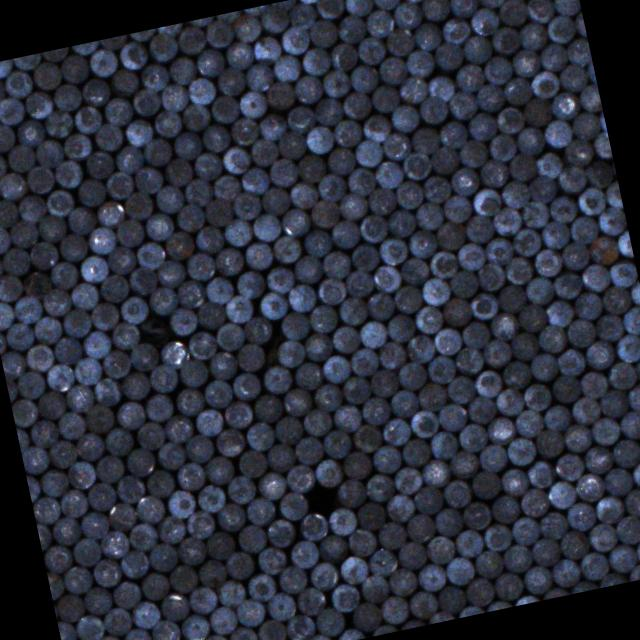tool: (267, 156, 300, 190), (146, 362, 180, 395), (84, 480, 118, 513), (275, 128, 308, 162), (410, 482, 443, 516), (243, 421, 276, 454), (145, 541, 178, 574), (455, 421, 488, 454), (432, 218, 465, 251), (458, 497, 491, 530), (388, 102, 421, 135), (284, 101, 317, 134), (84, 401, 117, 434), (328, 580, 361, 613), (309, 197, 342, 230), (165, 561, 198, 594), (250, 391, 283, 424), (175, 277, 208, 310), (160, 411, 193, 444), (172, 384, 205, 417), (134, 492, 166, 526), (232, 596, 266, 628), (100, 604, 132, 638), (284, 462, 318, 494), (114, 472, 148, 504), (452, 60, 486, 92), (434, 402, 468, 434), (479, 52, 511, 86), (448, 448, 480, 482), (466, 108, 498, 142), (462, 574, 496, 606), (424, 352, 456, 386), (7, 218, 39, 252), (147, 282, 179, 316), (277, 308, 309, 342), (362, 472, 396, 504), (208, 92, 242, 124), (360, 110, 392, 144), (528, 535, 560, 568), (394, 358, 426, 391), (587, 521, 619, 554), (558, 527, 590, 560), (564, 501, 596, 534), (306, 16, 339, 48), (98, 272, 130, 305), (66, 458, 98, 491), (502, 542, 534, 575), (58, 51, 90, 84), (401, 148, 434, 180), (43, 361, 75, 394), (574, 470, 606, 503), (175, 535, 207, 568), (0, 243, 32, 276), (348, 344, 381, 376), (583, 336, 615, 369), (145, 29, 177, 62), (165, 488, 198, 520), (214, 321, 247, 353), (184, 509, 217, 541), (552, 449, 584, 482), (419, 172, 452, 204), (243, 60, 275, 93), (127, 521, 160, 553), (369, 443, 402, 475), (462, 211, 494, 244), (162, 228, 195, 260), (154, 438, 186, 471), (392, 282, 424, 315), (416, 94, 449, 126), (328, 218, 361, 250), (193, 223, 225, 256), (518, 486, 551, 518), (174, 202, 207, 234), (214, 65, 247, 97), (127, 340, 160, 372), (358, 394, 391, 426), (184, 250, 217, 282), (535, 508, 568, 540), (70, 535, 102, 568), (192, 150, 225, 182), (338, 553, 371, 585), (120, 369, 152, 402), (30, 59, 62, 92), (389, 464, 422, 496), (213, 426, 246, 458), (444, 555, 476, 588), (560, 136, 593, 168), (440, 296, 472, 329), (322, 427, 354, 460), (6, 142, 38, 175), (465, 392, 497, 425), (316, 603, 348, 636), (498, 357, 530, 390), (76, 251, 109, 283), (388, 388, 421, 420), (490, 205, 522, 238), (182, 432, 215, 464), (439, 192, 471, 225), (340, 448, 372, 481), (264, 441, 296, 474), (138, 59, 170, 92), (80, 328, 112, 361), (356, 212, 389, 244), (466, 5, 498, 38), (246, 570, 279, 602), (427, 248, 460, 280), (354, 499, 386, 532), (174, 24, 207, 56), (505, 151, 537, 184), (414, 380, 447, 412), (34, 388, 66, 421), (349, 599, 381, 632), (468, 186, 501, 218), (225, 471, 257, 504), (352, 421, 384, 454), (14, 368, 46, 401), (35, 211, 67, 244), (195, 480, 228, 512), (206, 349, 238, 382), (104, 425, 136, 458), (516, 21, 548, 54), (364, 5, 396, 38), (126, 265, 158, 298), (503, 253, 535, 286), (565, 316, 597, 349), (200, 376, 232, 409), (195, 298, 228, 330), (258, 1, 290, 34), (112, 142, 145, 174), (344, 164, 376, 197), (574, 185, 606, 218), (526, 172, 558, 205), (112, 215, 144, 248), (214, 576, 247, 608), (520, 95, 552, 128), (494, 282, 526, 315), (568, 108, 601, 140), (586, 233, 618, 266), (582, 156, 614, 189), (125, 444, 156, 478), (512, 406, 544, 438), (404, 510, 436, 542), (588, 415, 620, 447), (454, 240, 486, 272), (330, 117, 362, 149), (453, 526, 485, 558), (50, 82, 82, 114), (444, 374, 476, 406), (347, 62, 379, 94), (480, 337, 512, 369), (579, 262, 611, 294), (234, 340, 266, 372), (162, 155, 194, 187), (424, 532, 456, 564), (153, 184, 185, 216), (80, 584, 112, 616), (278, 24, 310, 56), (27, 238, 59, 270), (232, 190, 264, 222), (388, 566, 420, 598), (32, 314, 64, 346), (140, 136, 172, 168), (183, 176, 215, 208), (224, 292, 256, 324), (534, 427, 566, 459), (22, 341, 54, 373), (494, 386, 526, 418), (207, 604, 239, 636), (62, 564, 94, 596), (418, 456, 450, 488), (508, 225, 540, 257), (538, 218, 570, 250), (314, 170, 346, 202), (222, 216, 254, 248), (522, 274, 554, 306), (228, 369, 260, 401), (470, 368, 502, 400), (292, 254, 324, 286), (71, 355, 103, 387), (49, 514, 81, 546), (223, 548, 255, 580), (506, 436, 538, 468), (205, 528, 237, 560), (316, 273, 348, 305), (198, 120, 230, 152), (560, 240, 592, 272), (176, 460, 208, 492), (359, 573, 391, 605), (527, 352, 559, 384), (272, 414, 304, 446), (592, 494, 624, 526), (298, 46, 330, 78), (119, 548, 151, 580), (142, 210, 174, 242), (87, 45, 119, 77), (56, 488, 88, 520), (372, 156, 404, 188), (383, 492, 415, 524), (379, 130, 411, 162), (476, 442, 508, 474), (237, 520, 269, 552), (578, 548, 610, 580), (420, 275, 452, 307), (284, 281, 316, 313), (138, 570, 170, 602), (355, 35, 387, 67), (288, 537, 320, 569), (406, 407, 438, 439), (178, 357, 210, 389), (448, 164, 480, 196), (536, 40, 568, 72), (528, 68, 560, 100), (376, 520, 408, 552), (340, 268, 372, 300), (377, 234, 409, 266), (570, 290, 602, 322), (453, 345, 485, 377), (87, 300, 119, 332), (582, 442, 614, 474), (63, 382, 95, 414), (368, 82, 400, 114), (66, 205, 98, 237), (374, 54, 406, 86), (156, 591, 188, 623), (98, 528, 130, 560), (396, 538, 428, 570), (570, 394, 602, 426), (474, 548, 506, 580), (121, 116, 153, 148), (278, 206, 310, 238), (456, 136, 488, 168), (203, 196, 235, 228), (57, 230, 89, 262), (94, 454, 126, 486), (278, 562, 310, 594), (320, 248, 352, 280), (520, 562, 552, 594), (266, 590, 298, 622), (486, 130, 518, 162), (498, 178, 530, 210), (508, 46, 540, 78), (105, 500, 137, 532), (290, 72, 322, 104), (446, 268, 478, 300), (550, 372, 582, 404), (402, 46, 434, 78), (78, 508, 110, 540), (293, 434, 325, 466), (128, 598, 160, 630), (404, 332, 436, 364), (472, 82, 504, 114), (90, 556, 122, 588), (78, 76, 110, 108), (122, 190, 154, 222), (330, 323, 362, 355), (488, 492, 520, 524), (446, 90, 478, 122), (405, 227, 437, 259), (458, 317, 490, 349), (202, 454, 234, 486), (600, 282, 632, 314), (306, 302, 338, 334), (596, 388, 628, 420), (248, 136, 280, 168), (60, 130, 92, 162), (40, 286, 72, 318), (313, 95, 345, 127), (483, 235, 515, 267), (430, 39, 462, 71), (262, 363, 294, 395), (550, 270, 582, 302), (508, 329, 540, 361), (604, 359, 636, 391), (43, 108, 75, 140), (605, 541, 637, 573), (230, 12, 262, 44), (21, 88, 53, 120), (222, 39, 254, 71), (520, 382, 552, 414), (596, 204, 628, 236), (467, 288, 499, 320), (154, 258, 186, 290), (535, 322, 567, 354), (260, 185, 292, 217), (108, 318, 140, 350), (52, 592, 84, 624), (556, 62, 588, 94), (542, 117, 574, 149), (398, 254, 430, 286), (134, 239, 166, 271), (244, 496, 276, 528), (543, 13, 575, 45), (399, 436, 431, 468), (155, 514, 187, 546), (364, 545, 396, 577), (568, 212, 600, 244), (349, 242, 381, 274), (166, 54, 198, 86), (550, 555, 582, 587), (100, 347, 132, 379), (460, 32, 492, 64), (426, 143, 458, 175), (489, 24, 521, 56), (302, 226, 334, 258), (516, 302, 548, 334), (221, 144, 253, 176), (600, 464, 632, 496), (102, 169, 134, 201), (366, 366, 398, 398), (577, 369, 609, 401), (264, 264, 296, 296), (556, 162, 588, 194), (300, 406, 332, 438), (296, 153, 328, 185), (318, 531, 350, 563), (186, 329, 218, 361), (277, 488, 309, 520), (117, 292, 149, 324), (263, 78, 295, 110), (292, 360, 324, 392), (296, 585, 328, 617), (592, 310, 624, 342), (110, 580, 142, 612), (470, 468, 502, 500), (249, 34, 281, 66), (196, 556, 228, 588), (242, 314, 274, 346), (282, 386, 314, 418), (532, 148, 564, 180), (302, 331, 334, 363), (376, 339, 407, 372), (55, 408, 86, 441), (214, 245, 245, 278), (62, 306, 93, 339), (114, 399, 145, 432), (408, 125, 441, 156), (510, 513, 541, 545), (157, 82, 188, 114), (102, 96, 133, 128), (482, 520, 513, 552), (24, 162, 55, 194), (433, 504, 464, 536), (51, 334, 82, 366), (562, 422, 593, 454), (185, 74, 216, 106), (303, 124, 334, 156), (228, 115, 260, 146), (74, 430, 105, 462), (172, 128, 203, 160), (186, 584, 217, 616), (479, 158, 510, 190), (546, 477, 577, 509), (75, 176, 106, 208), (135, 418, 166, 450), (412, 304, 443, 336), (475, 261, 506, 293), (2, 66, 33, 98), (396, 74, 428, 105), (4, 322, 35, 354), (17, 192, 48, 224), (257, 468, 288, 500), (555, 344, 586, 376), (320, 67, 351, 99), (335, 477, 366, 509), (216, 502, 247, 534), (337, 296, 368, 328), (256, 545, 288, 576), (195, 46, 226, 78), (105, 242, 136, 274), (53, 156, 84, 188), (341, 374, 372, 406), (236, 446, 267, 478), (86, 223, 118, 254), (91, 120, 122, 152), (494, 104, 525, 136), (206, 273, 237, 305), (46, 436, 77, 468), (327, 41, 358, 73), (493, 568, 524, 600), (146, 467, 177, 499), (393, 178, 424, 210), (435, 582, 466, 614), (532, 247, 563, 279), (116, 40, 147, 72), (128, 86, 160, 117), (44, 186, 76, 217), (287, 178, 318, 210), (364, 290, 395, 322), (523, 457, 554, 489), (336, 12, 367, 44), (266, 517, 297, 549), (180, 100, 211, 132), (380, 593, 411, 625), (47, 258, 78, 290), (487, 309, 518, 341), (389, 0, 421, 31), (69, 280, 100, 312), (84, 148, 115, 180), (108, 65, 139, 97), (310, 559, 341, 591), (257, 288, 288, 320), (143, 392, 174, 424), (546, 194, 577, 226), (29, 417, 60, 449), (243, 240, 274, 272), (158, 336, 189, 368), (204, 18, 235, 50), (428, 428, 458, 461), (134, 162, 164, 195), (299, 510, 330, 541), (192, 407, 223, 438), (381, 415, 412, 446), (14, 118, 45, 149), (221, 399, 252, 430), (367, 185, 398, 216), (39, 467, 70, 498), (240, 166, 271, 197), (543, 297, 574, 328), (501, 75, 532, 106), (275, 337, 306, 368), (441, 16, 472, 47), (95, 199, 126, 230), (328, 504, 358, 536), (432, 323, 462, 355), (414, 200, 444, 232), (486, 414, 516, 446), (352, 136, 382, 168), (346, 526, 376, 558), (370, 261, 400, 293), (34, 138, 64, 170), (608, 258, 640, 288), (332, 401, 362, 433), (386, 208, 416, 240), (384, 312, 414, 344), (416, 562, 446, 594), (514, 124, 544, 156), (12, 294, 42, 326), (238, 88, 268, 120), (312, 456, 342, 488), (610, 435, 640, 467), (442, 476, 472, 508), (72, 104, 102, 136), (42, 542, 72, 574), (320, 353, 350, 385), (92, 376, 122, 408), (500, 466, 530, 498), (426, 70, 456, 102), (210, 172, 242, 202), (256, 110, 288, 140), (340, 89, 370, 120), (356, 318, 386, 349), (270, 54, 300, 85), (166, 306, 197, 336), (407, 588, 438, 618), (338, 190, 368, 221), (519, 198, 550, 228), (251, 212, 282, 242), (438, 118, 468, 149), (272, 234, 302, 265), (152, 109, 182, 140), (384, 26, 414, 57), (326, 145, 356, 176), (284, 0, 315, 30), (72, 611, 104, 640), (31, 494, 60, 526), (20, 442, 49, 474), (548, 90, 578, 120), (412, 22, 442, 52), (236, 268, 266, 298), (314, 382, 344, 412), (542, 402, 572, 432), (286, 611, 317, 640), (179, 612, 211, 640), (564, 34, 592, 66), (612, 331, 640, 363), (495, 0, 528, 27), (614, 511, 640, 544), (10, 396, 37, 427), (0, 169, 26, 201), (256, 615, 289, 640), (0, 348, 27, 378), (0, 94, 25, 126), (523, 0, 555, 25), (616, 408, 640, 441), (419, 0, 451, 24), (149, 616, 181, 640), (577, 82, 602, 112), (0, 271, 24, 302), (0, 197, 20, 229), (620, 303, 640, 335), (446, 0, 478, 19), (603, 180, 623, 210), (592, 130, 612, 160), (313, 0, 344, 19), (342, 0, 374, 18), (622, 485, 640, 517), (614, 228, 633, 257), (226, 623, 258, 640), (11, 54, 41, 72), (550, 0, 581, 17), (36, 521, 53, 551), (596, 570, 624, 588), (46, 570, 64, 598), (625, 380, 640, 413), (0, 121, 15, 153), (26, 472, 42, 502), (335, 624, 365, 640), (571, 8, 587, 38), (0, 299, 15, 330), (71, 40, 100, 56), (453, 602, 482, 618), (426, 608, 455, 624), (121, 626, 153, 640), (40, 47, 68, 63), (542, 584, 570, 600), (100, 34, 128, 50), (156, 22, 184, 38), (570, 578, 598, 594), (57, 618, 76, 640), (4, 372, 18, 401), (130, 28, 158, 42), (370, 622, 398, 636), (214, 10, 242, 24), (400, 616, 428, 630), (16, 426, 30, 454), (628, 458, 640, 490), (187, 15, 216, 28), (627, 280, 640, 308), (512, 593, 540, 606), (484, 599, 512, 612), (242, 4, 270, 17), (0, 223, 11, 255), (596, 105, 608, 134), (584, 57, 596, 84), (270, 0, 297, 12), (370, 0, 402, 10), (198, 630, 230, 640), (474, 0, 507, 9), (626, 561, 640, 581), (303, 631, 333, 640), (0, 58, 13, 78), (0, 150, 7, 182), (633, 354, 640, 385), (0, 327, 7, 355), (297, 0, 323, 4)
tool_b: (136, 312, 173, 348)
